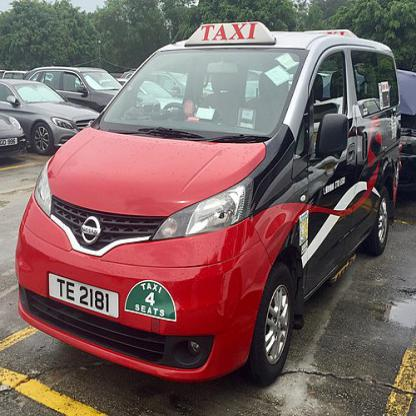taxi: (13, 19, 405, 386)
